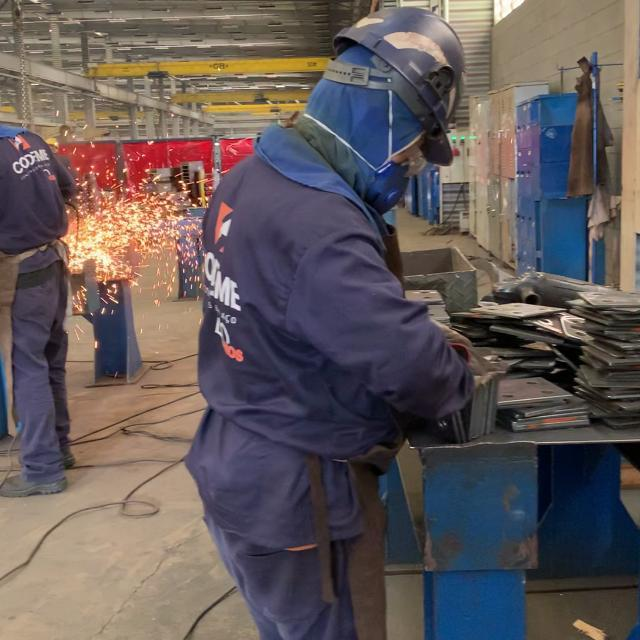helmet: (328, 5, 468, 123)
person: (179, 5, 477, 620)
